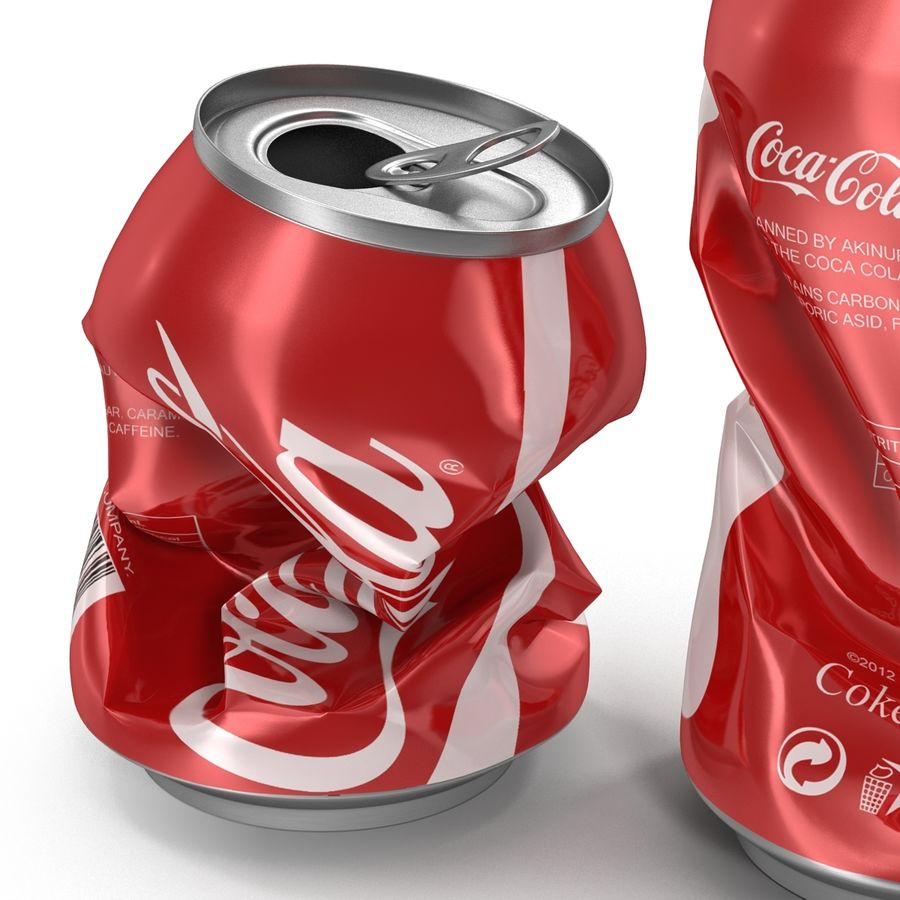can: (68, 61, 649, 834), (680, 1, 900, 900)
